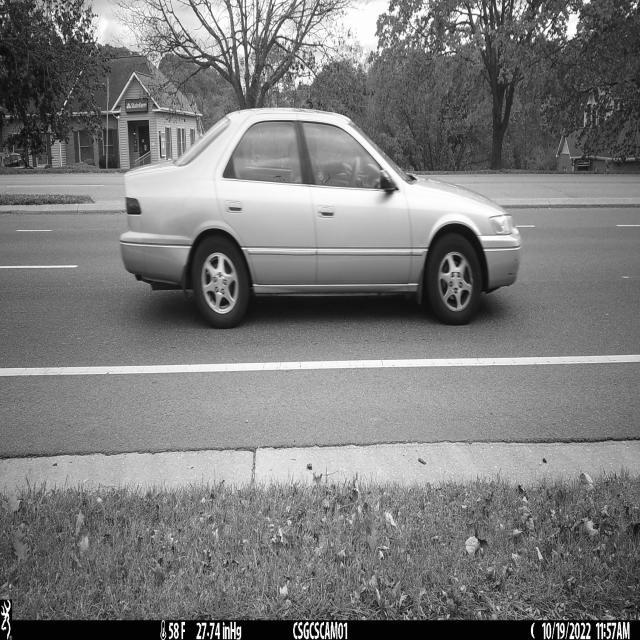Sedan: (118, 108, 522, 332)
